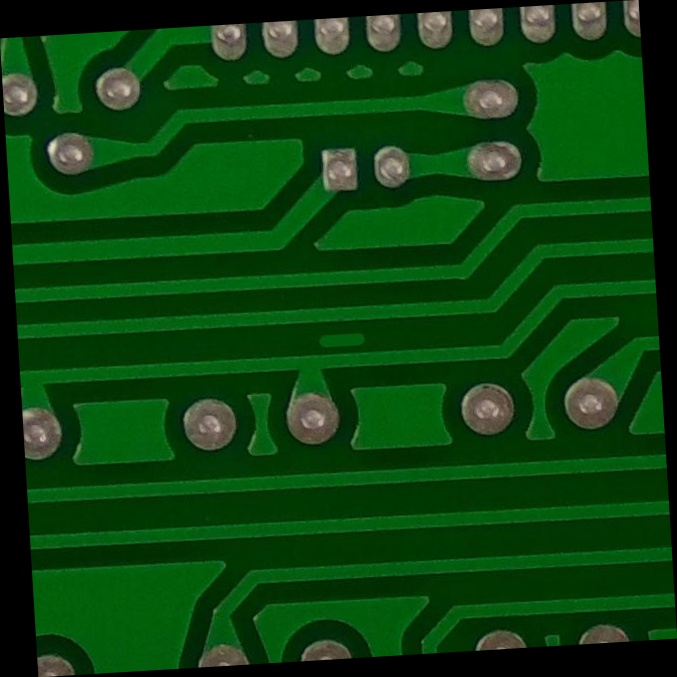spurious_copper: (304, 315, 374, 362)
